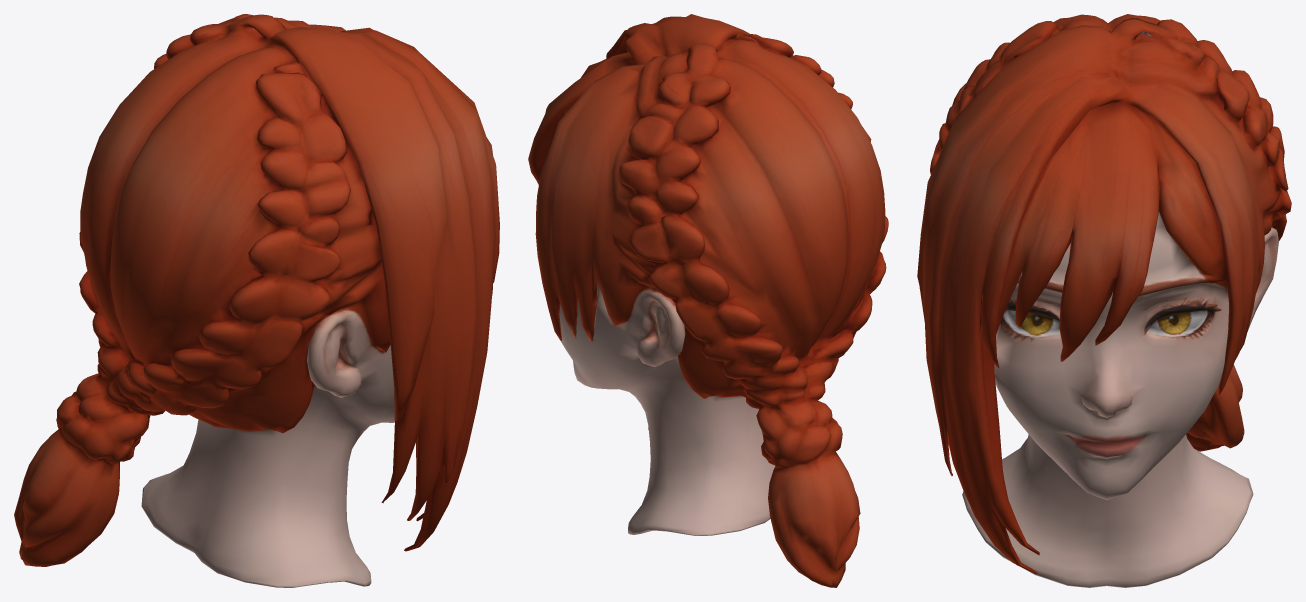
File: source.glb
3 views of the same model, side by side, from view 1: azimuth 30°, elevation 25°; view 2: azimuth 150°, elevation 25°; view 3: azimuth 270°, elevation 25° (orthographic). The views are drawn at different scales.
Visible parts, largest first — view 1: tripo_node_208f349c-d0de-4d57-921f-53b66d89d014; view 2: tripo_node_208f349c-d0de-4d57-921f-53b66d89d014; view 3: tripo_node_208f349c-d0de-4d57-921f-53b66d89d014.
Part boxes in pixels (left/top/right/bottom): tripo_node_208f349c-d0de-4d57-921f-53b66d89d014: left=14, top=14, right=499, bottom=587; tripo_node_208f349c-d0de-4d57-921f-53b66d89d014: left=528, top=14, right=888, bottom=587; tripo_node_208f349c-d0de-4d57-921f-53b66d89d014: left=917, top=14, right=1291, bottom=587.
Size of the model in its own units: 0.7652 by 1 by 0.6341.
Materials: 1 (1 with a texture image).
